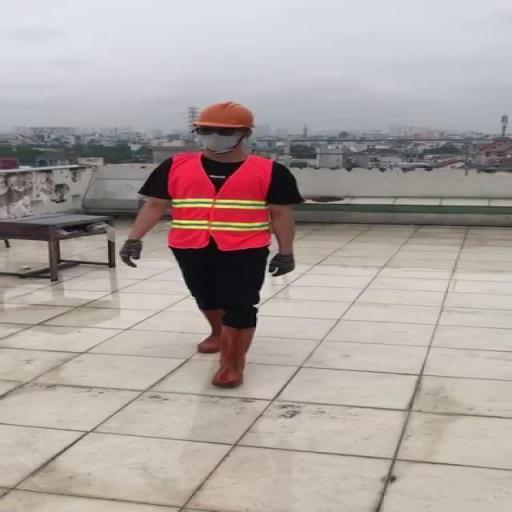Boots: (208, 326, 258, 390), (196, 306, 226, 354)
Helmet: (192, 99, 260, 131)
Person: (110, 94, 308, 396)
